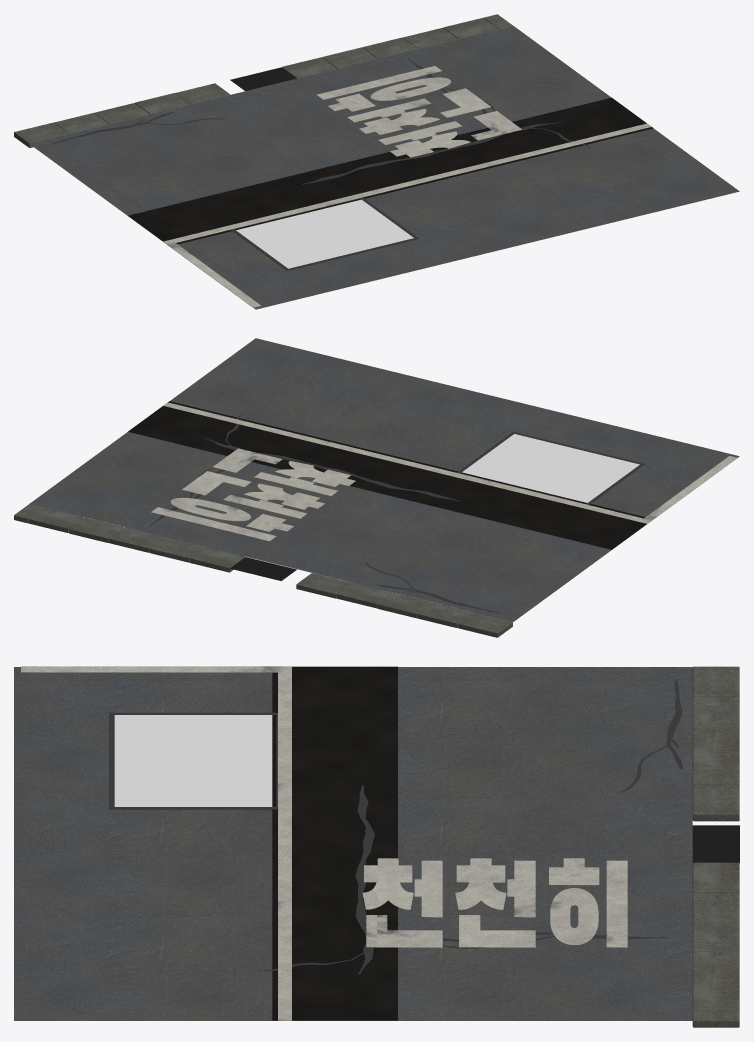
File: StreetRoadAlley.fbx
3 views of the same model, one above another, from view 1: azimuth 30°, elevation 25°; view 2: azimuth 150°, elevation 25°; view 3: azimuth 270°, elevation 25° (orthographic). The views are drawn at different scales.
Visible parts, largest first — view 1: StreetRoadAlley_Road, StreetRoadAlley_TextSlow, StreetRoadAlley_Parking; view 2: StreetRoadAlley_Road, StreetRoadAlley_TextSlow, StreetRoadAlley_Parking; view 3: StreetRoadAlley_Road, StreetRoadAlley_TextSlow, StreetRoadAlley_Parking.
Boxes of the visible parts, x1,y1,x2,y2 form: StreetRoadAlley_Road: [14, 14, 739, 309]; StreetRoadAlley_TextSlow: [317, 66, 521, 157]; StreetRoadAlley_Parking: [163, 123, 651, 307]; StreetRoadAlley_Road: [14, 338, 739, 637]; StreetRoadAlley_TextSlow: [151, 448, 355, 541]; StreetRoadAlley_Parking: [163, 402, 737, 523]; StreetRoadAlley_Road: [14, 666, 739, 1027]; StreetRoadAlley_TextSlow: [362, 858, 627, 947]; StreetRoadAlley_Parking: [21, 666, 291, 1020].
Size of the model in its own units: 6 by 0.0628 by 5.2.
